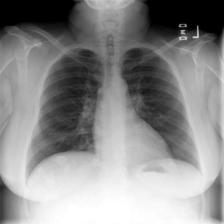normal: (20, 41, 207, 201)
